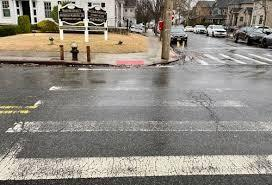faded_road_lines: (35, 68, 247, 108), (0, 151, 271, 179), (9, 121, 216, 132), (176, 47, 271, 64), (0, 100, 41, 114), (218, 121, 271, 131)
